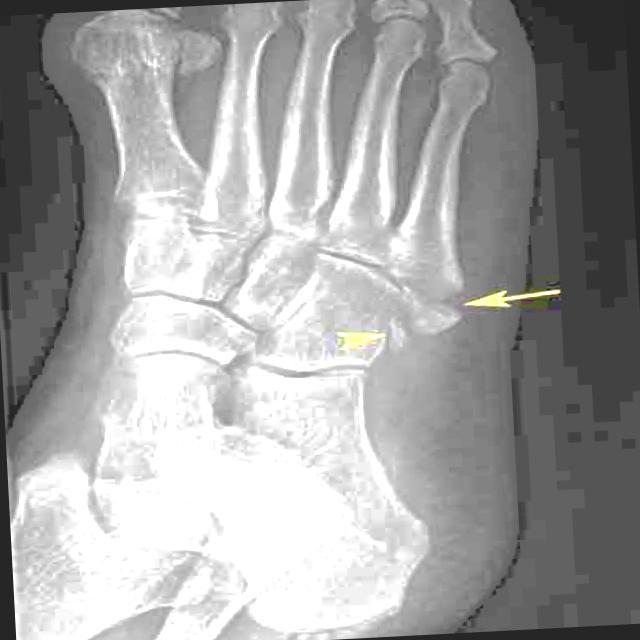Avlusion Fracture: (424, 276, 476, 339), (366, 309, 408, 361)
